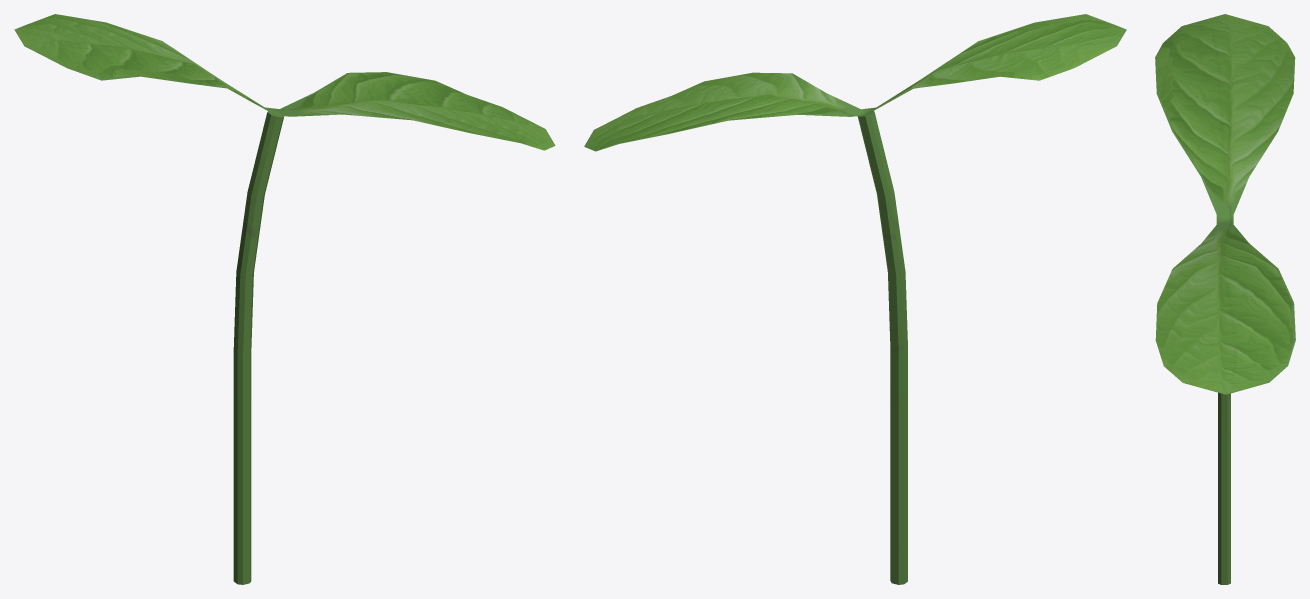
The model's file is TwinLeaf.fbx.
3 renders of one model, left to right at view 1: azimuth 30°, elevation 25°; view 2: azimuth 150°, elevation 25°; view 3: azimuth 270°, elevation 25°, orthographic. The views are drawn at different scales.
Parts seen in each view (by area): view 1: doubleLeaf2; view 2: doubleLeaf2; view 3: doubleLeaf2.
Boxes of the visible parts, <box> form: doubleLeaf2: <box>14,14,555,584</box>; doubleLeaf2: <box>584,14,1126,584</box>; doubleLeaf2: <box>1155,14,1295,584</box>.
Size of the model in its own units: 10.48 by 11.28 by 2.99.
Materials: 1 (1 with a texture image).
